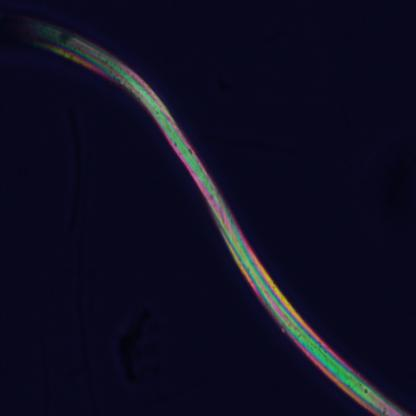Microfibre: (2, 11, 408, 415)
